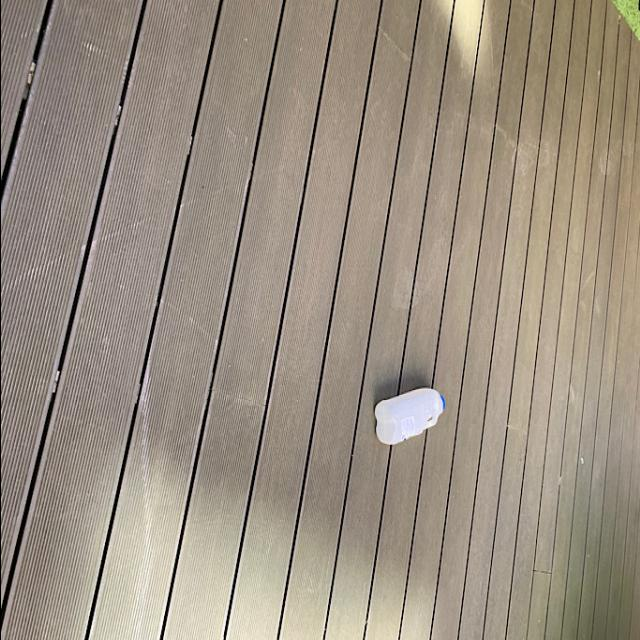HDPEM: (366, 380, 450, 450)
